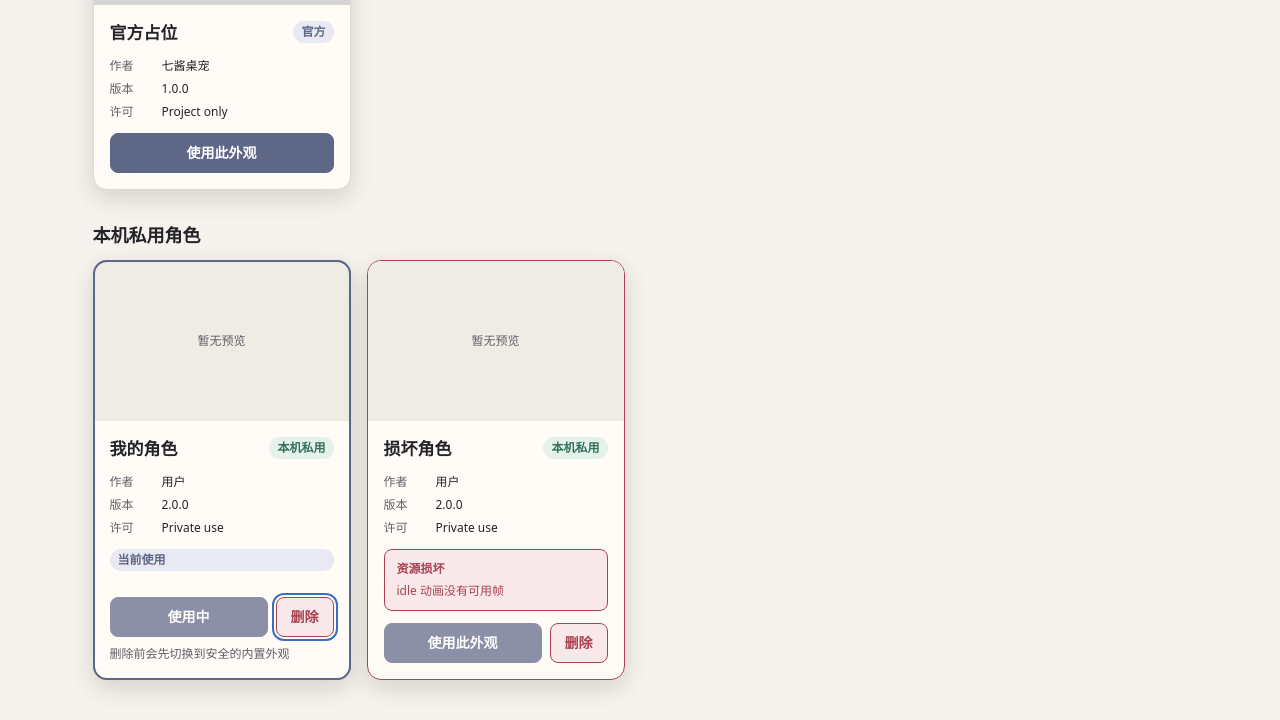
Scenario: AppearanceCenter › switches through the native handshake before deleting the active local package
The width and height of the screenshot is (1280, 720).
(page scrolled)
Step 1. Click the button with class "danger" below "当前使用" → (304, 617), box [276,597,334,637]
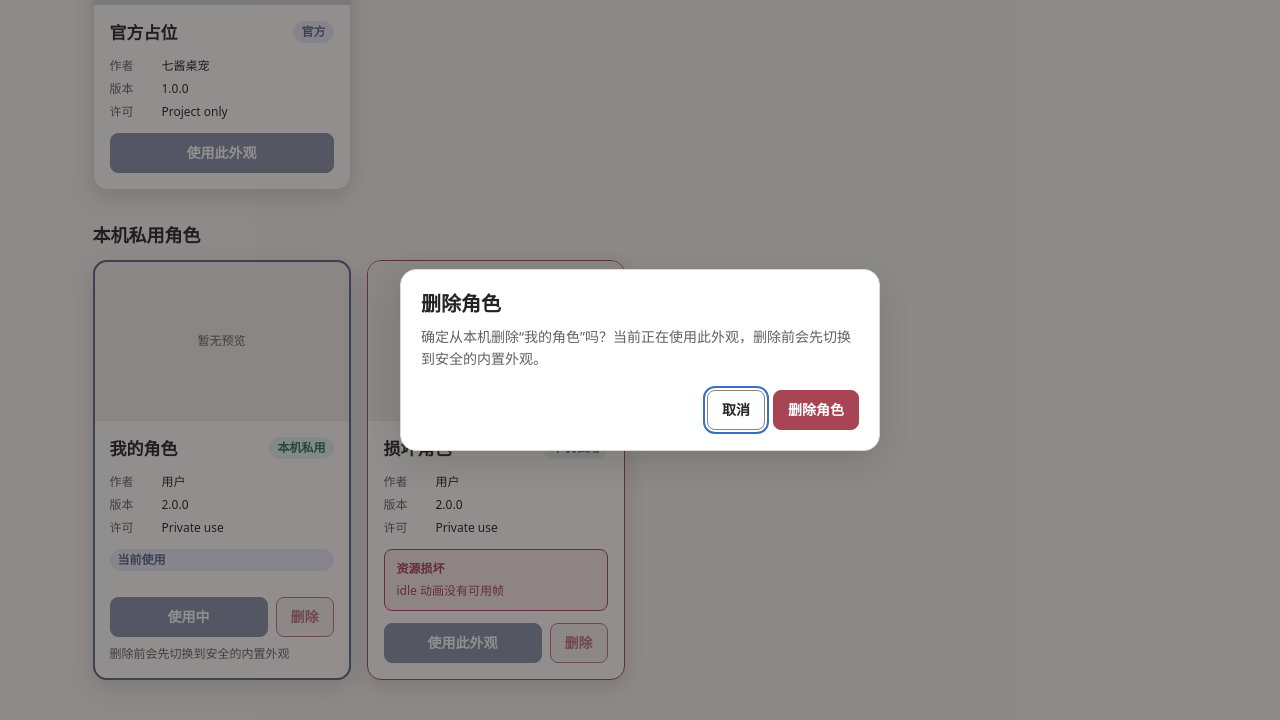
expect the dialog "删除角色" shows "删除前会先切换到安全的内置外观": met, box [421,327,851,368]
Step 2. Click the button "删除角色" → (816, 410), box [773,390,859,430]
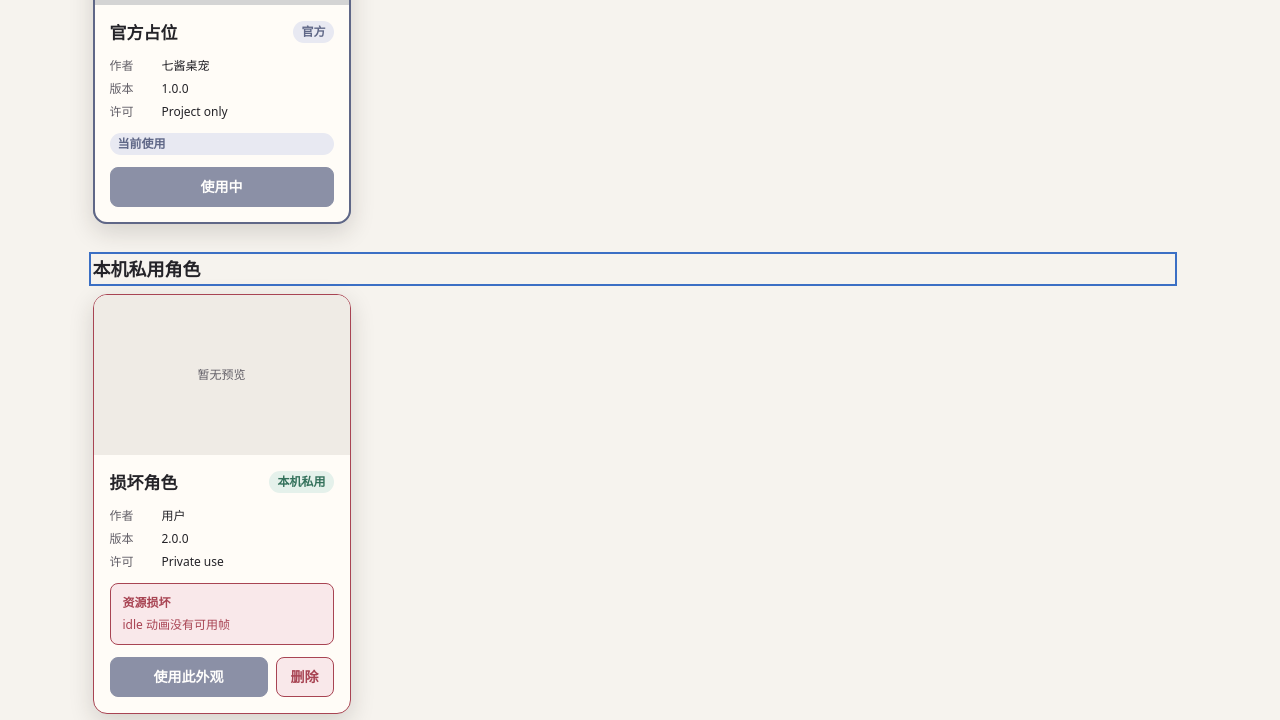
expect the heading "我的角色" is gone: met
